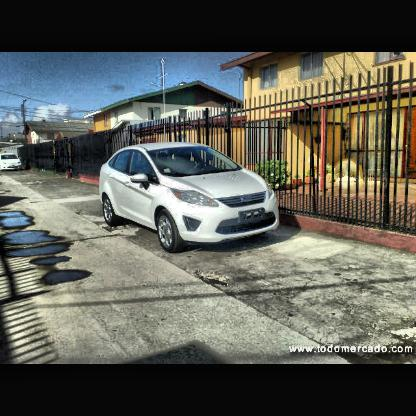Ford Fiesta Sedan 2012: (99, 143, 281, 253)
